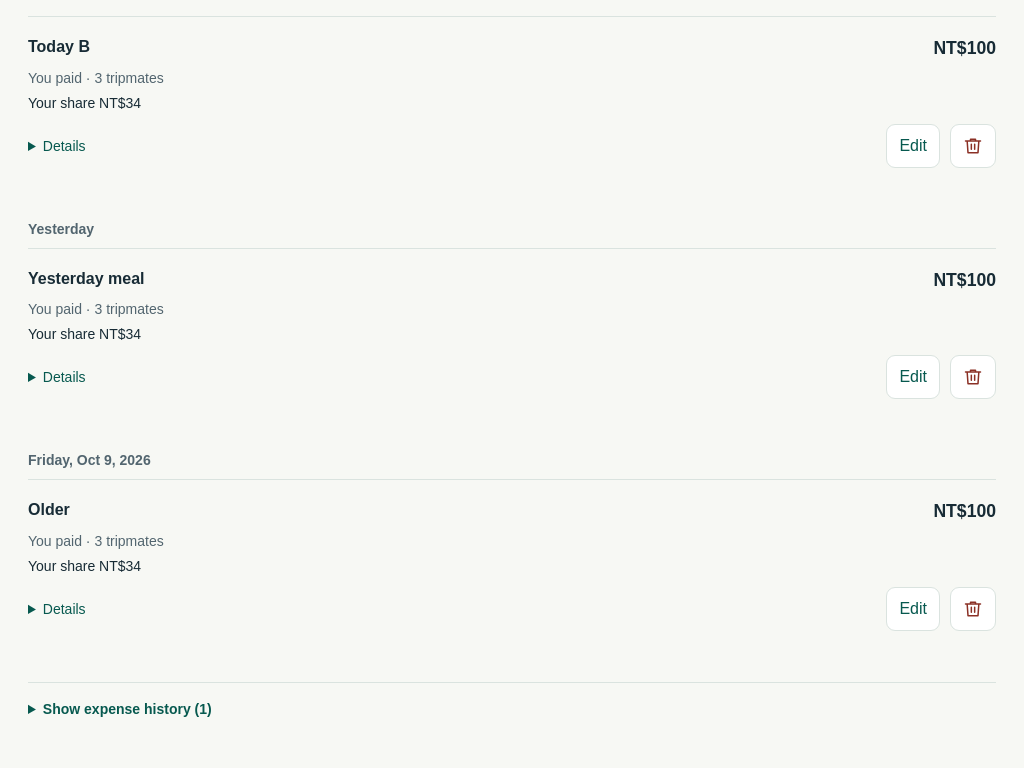
Scenario: groups Today, Yesterday and older dates with deterministic ordering and history-only previous versions
(page scrolled)
Expected: the heading "Yesterday" is shown, [28, 221, 94, 237]
Expected: the heading "Old corrected version" is not shown
Click the heading "Show expense history (1)" at (127, 708), box [43, 700, 212, 716]
(page scrolled)
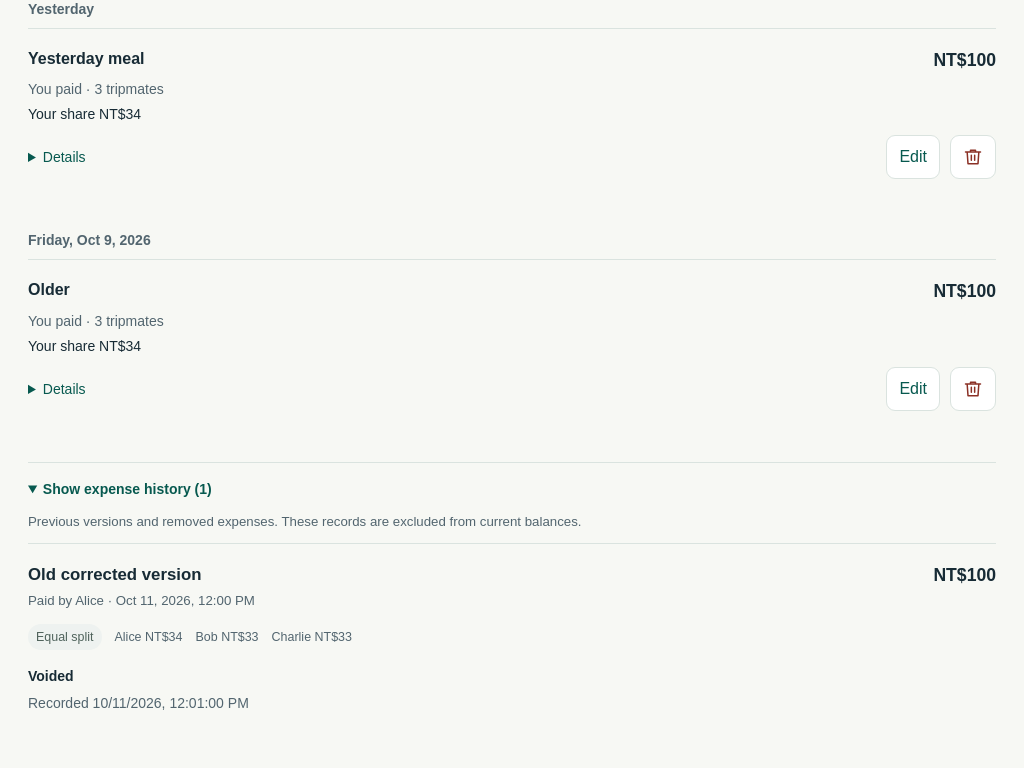
Now the heading "Old corrected version" is shown, box [28, 566, 202, 584]
